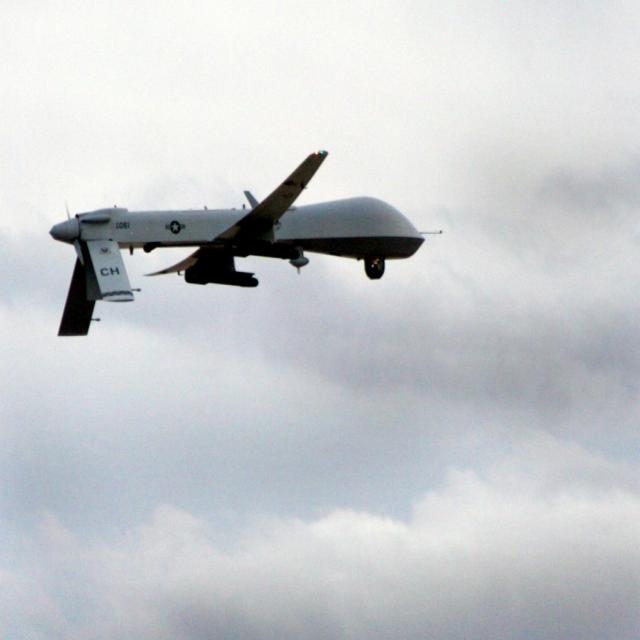iha: (51, 148, 440, 339)
